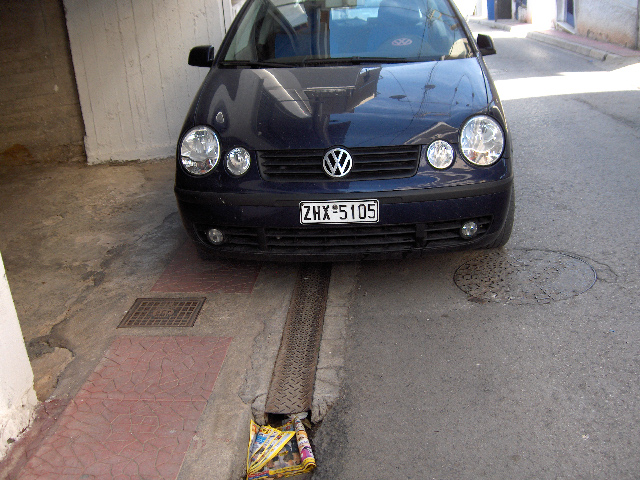licenseplate: (298, 198, 380, 224)
